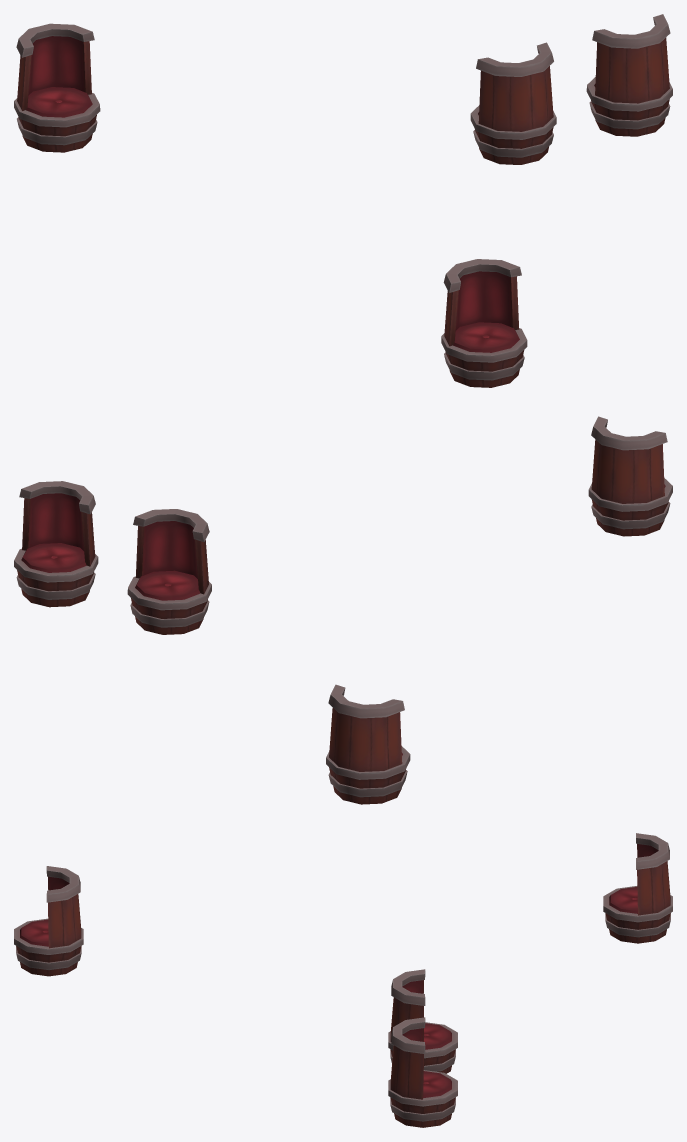
The model's file is Pirate Chair.fbx.
The picture shows the model from 3 angles, top to bottom: view 1: azimuth 30°, elevation 25°; view 2: azimuth 150°, elevation 25°; view 3: azimuth 270°, elevation 25°; orthographic projection. The views are drawn at different scales.
Parts seen in each view (by area): view 1: Pirate_Chair, Ocean_Chair_0013:Pirate_Chair2, Ocean_Chair_0013:Pirate_Chair4, Ocean_Chair_0013:Pirate_Chair3; view 2: Ocean_Chair_0013:Pirate_Chair3, Ocean_Chair_0013:Pirate_Chair4, Ocean_Chair_0013:Pirate_Chair2, Pirate_Chair; view 3: Ocean_Chair_0013:Pirate_Chair4, Pirate_Chair, Ocean_Chair_0013:Pirate_Chair2, Ocean_Chair_0013:Pirate_Chair3.
Part boxes in pixels (x1=…): Pirate_Chair: x1=441, y1=259, x2=527, y2=387; Ocean_Chair_0013:Pirate_Chair2: x1=14, y1=23, x2=100, y2=152; Ocean_Chair_0013:Pirate_Chair4: x1=586, y1=14, x2=672, y2=136; Ocean_Chair_0013:Pirate_Chair3: x1=470, y1=42, x2=556, y2=164; Ocean_Chair_0013:Pirate_Chair3: x1=127, y1=509, x2=211, y2=634; Ocean_Chair_0013:Pirate_Chair4: x1=14, y1=481, x2=98, y2=607; Ocean_Chair_0013:Pirate_Chair2: x1=326, y1=684, x2=410, y2=804; Pirate_Chair: x1=588, y1=416, x2=672, y2=536; Ocean_Chair_0013:Pirate_Chair4: x1=388, y1=1017, x2=457, y2=1127; Pirate_Chair: x1=14, y1=866, x2=83, y2=976; Ocean_Chair_0013:Pirate_Chair2: x1=603, y1=833, x2=672, y2=943; Ocean_Chair_0013:Pirate_Chair3: x1=388, y1=969, x2=457, y2=1073.
Size of the model in its own units: 606 by 110 by 783.
